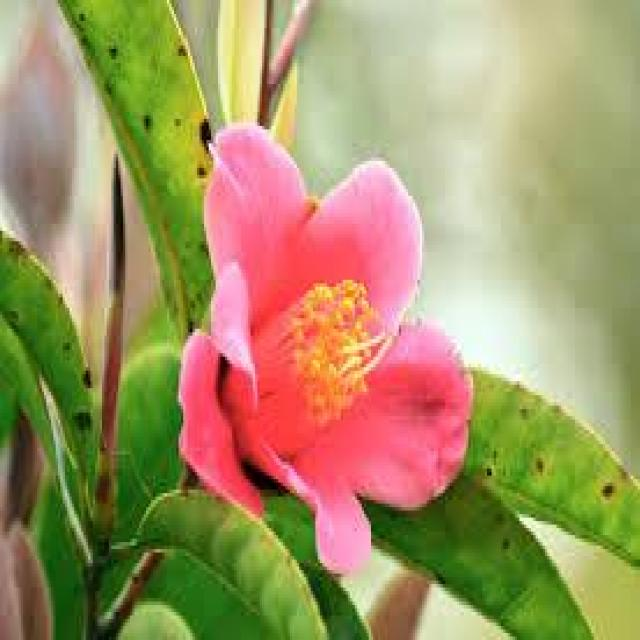organic waste: (169, 133, 480, 559)
